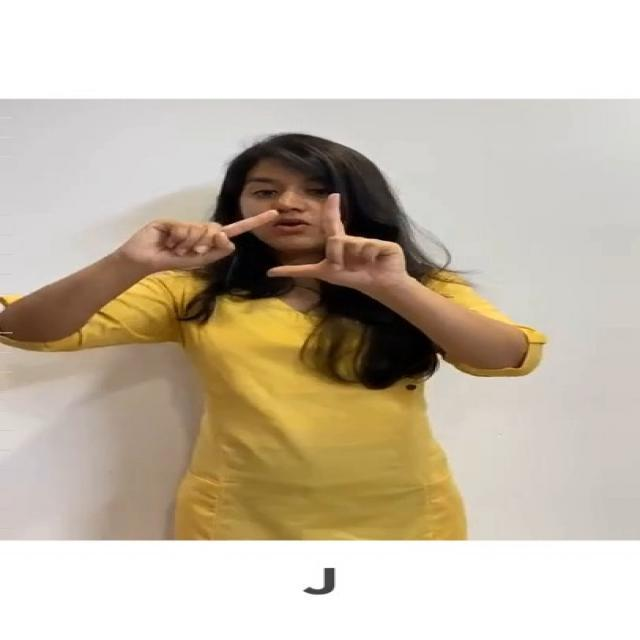J: (114, 179, 426, 302)
